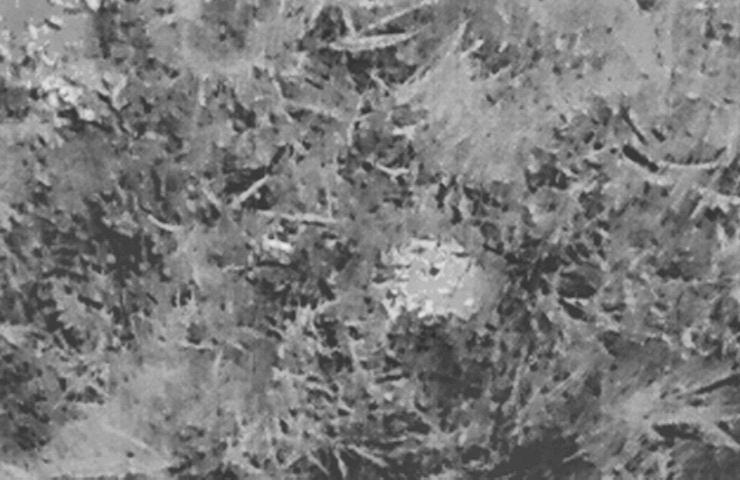landmines: (377, 233, 492, 333)
